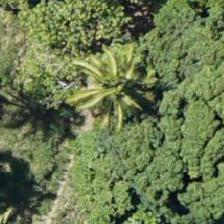coconut_tree: (61, 32, 151, 122)
